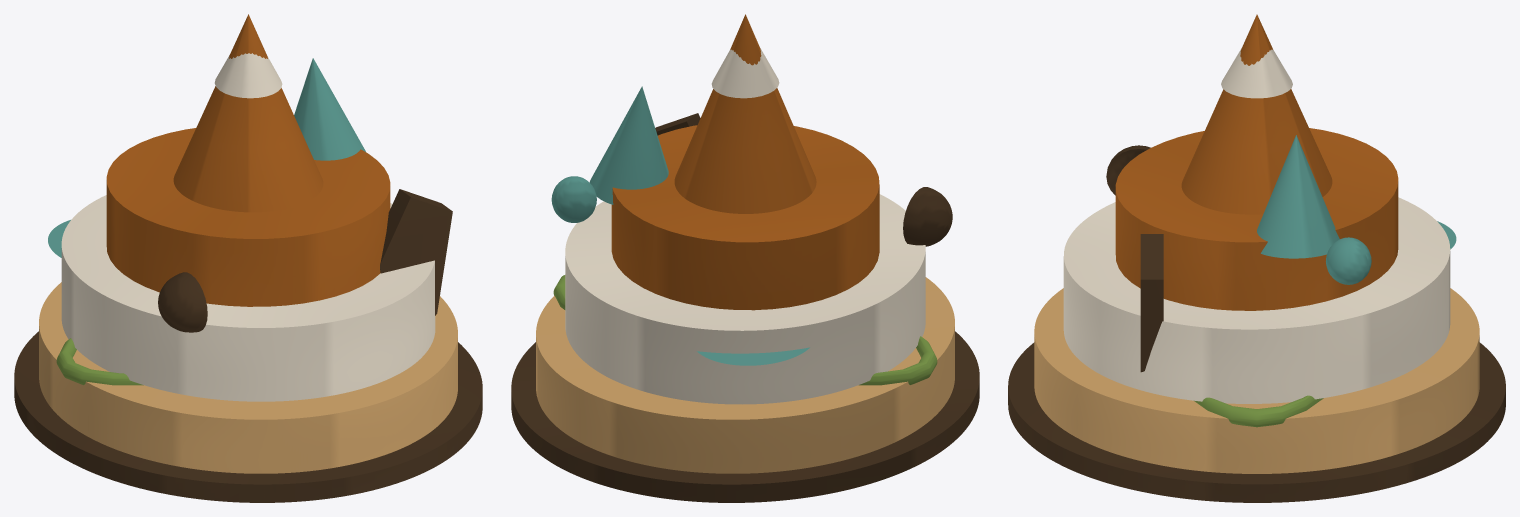
File: 0637_地貌图鉴_埃及白沙漠蘑菇石.glb
3 renders of one model, left to right at view 1: azimuth 30°, elevation 25°; view 2: azimuth 150°, elevation 25°; view 3: azimuth 270°, elevation 25°, orthographic.
Parts seen in each view (by area): view 1: card_0637; view 2: card_0637; view 3: card_0637.
Boxes of the visible parts, left/top/right/bottom form: card_0637: left=14, top=14, right=482, bottom=502; card_0637: left=511, top=14, right=979, bottom=502; card_0637: left=1008, top=14, right=1505, bottom=502.
Size of the model in its own units: 1.08 by 1 by 1.15.
